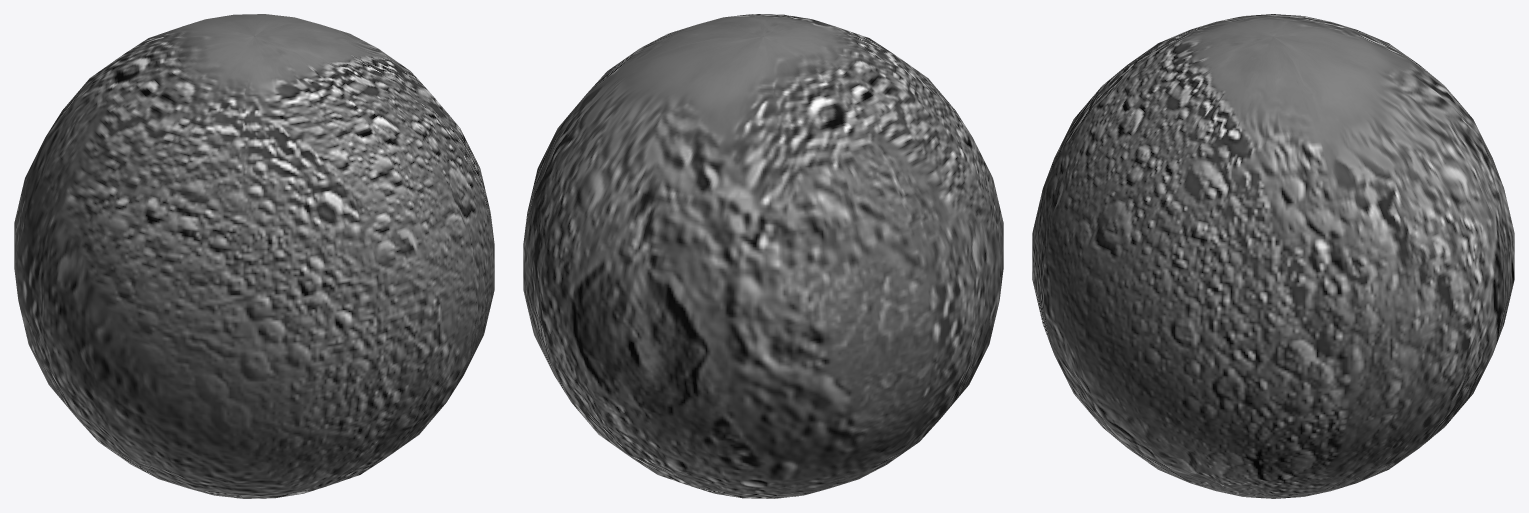
File: AsteroidX.obj
3 renders of one model, left to right at view 1: azimuth 30°, elevation 25°; view 2: azimuth 150°, elevation 25°; view 3: azimuth 270°, elevation 25°, orthographic.
Bounding box in the file's own units: 1.99 × 2 × 1.99.
1 material, 1 textured.
